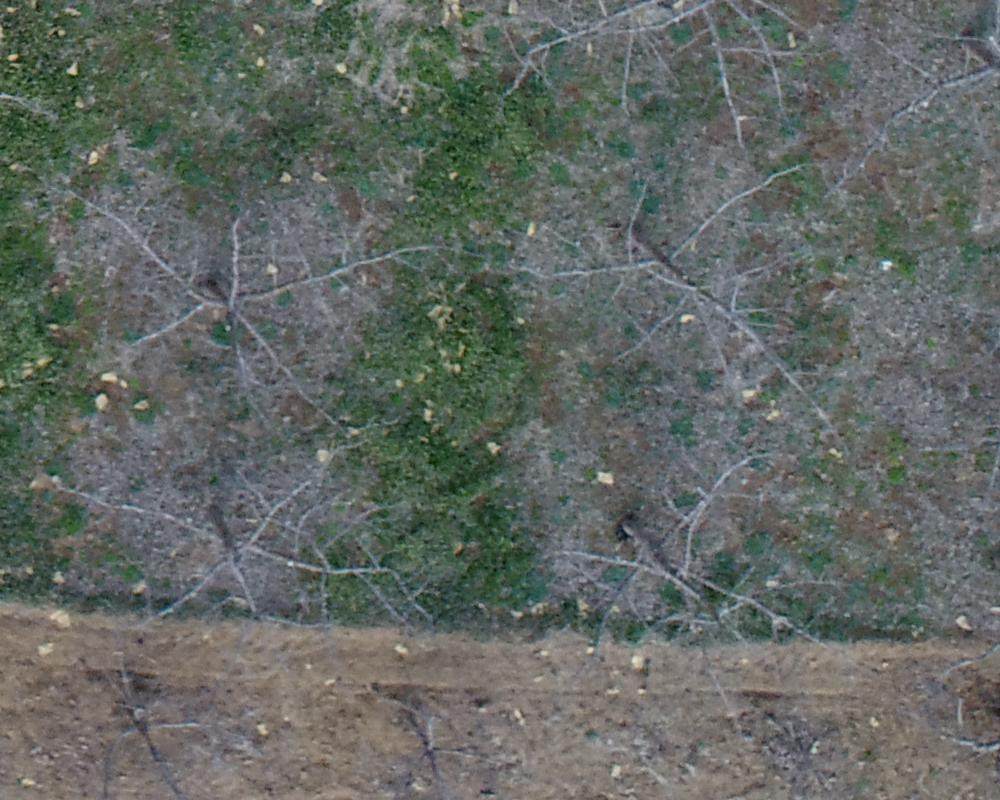apple: (63, 172, 443, 415), (546, 172, 859, 430), (543, 454, 870, 696), (67, 446, 428, 654), (520, 10, 885, 135), (52, 657, 270, 790), (357, 670, 522, 790)
